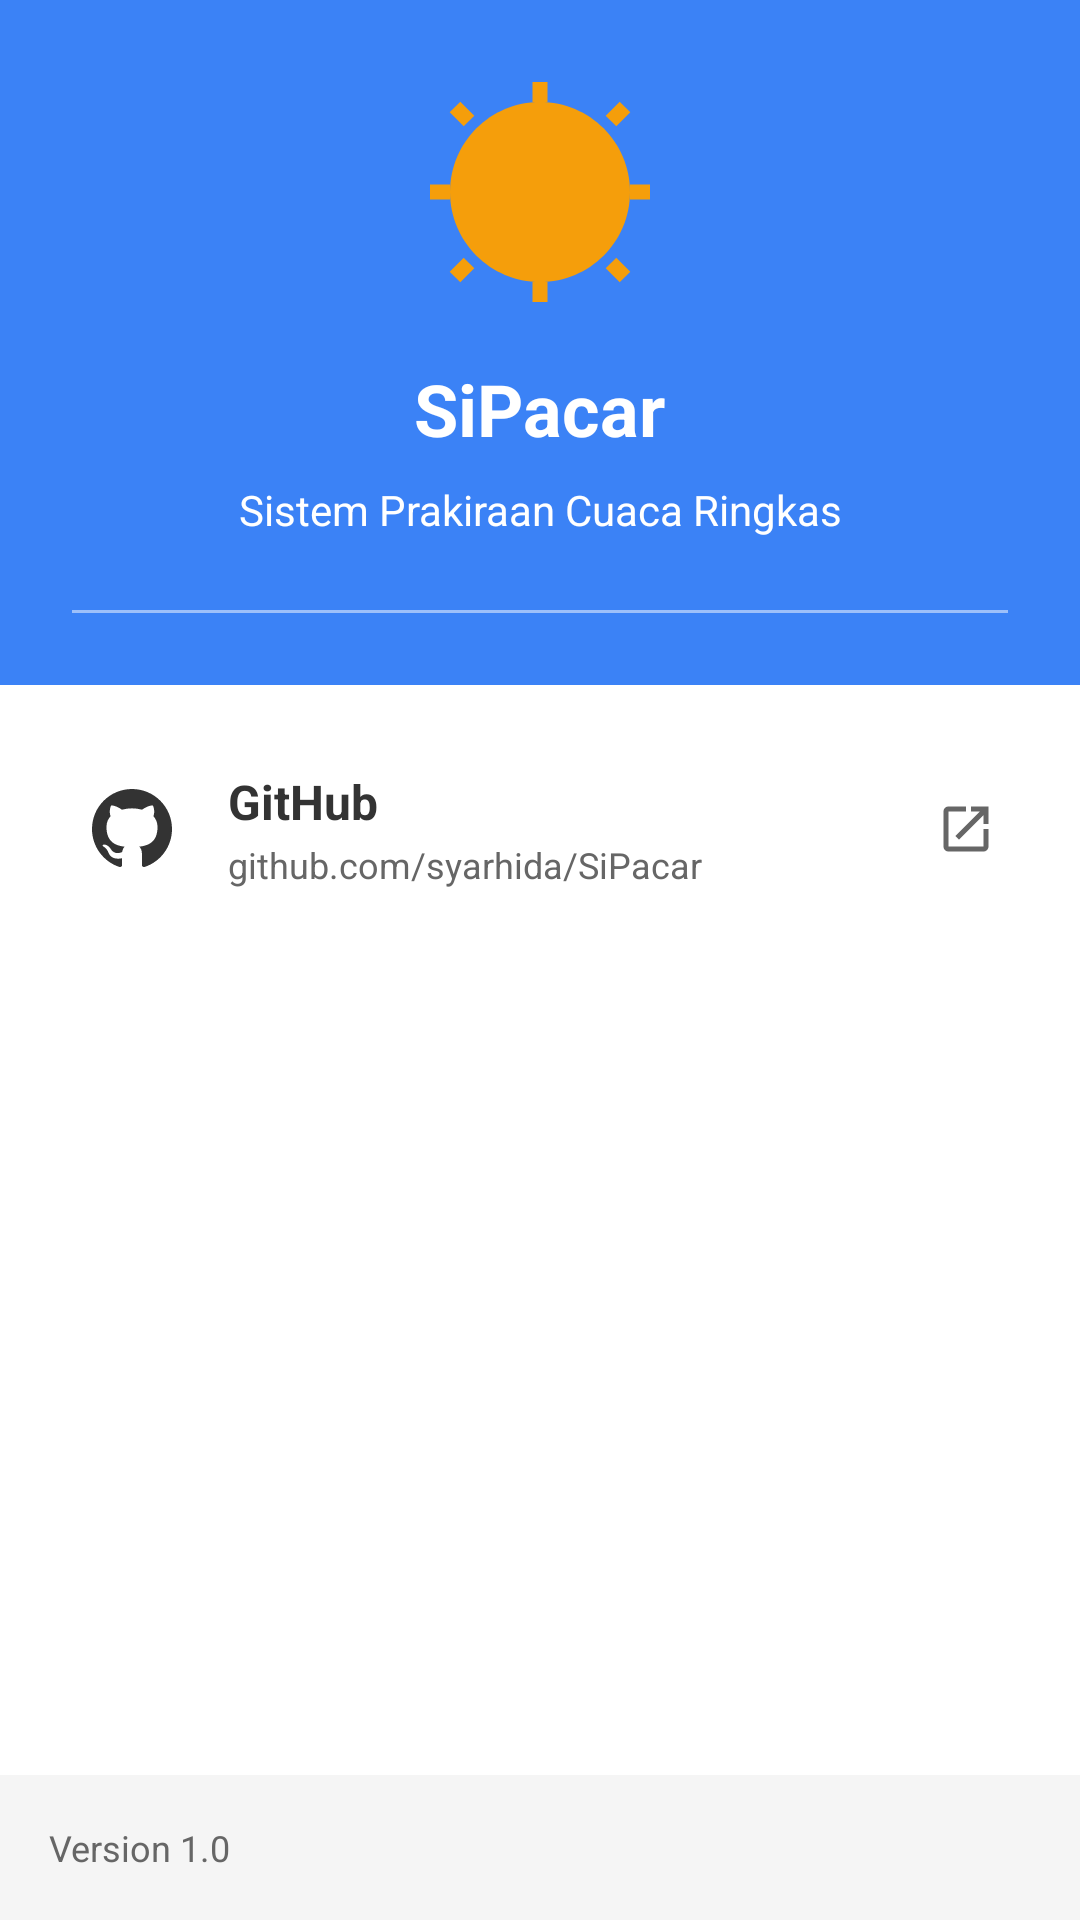

Where to tap for icons on this 1080×1920 app screen, as point (x, y):
Open link: point (966, 829)
weather day: point (540, 192)
